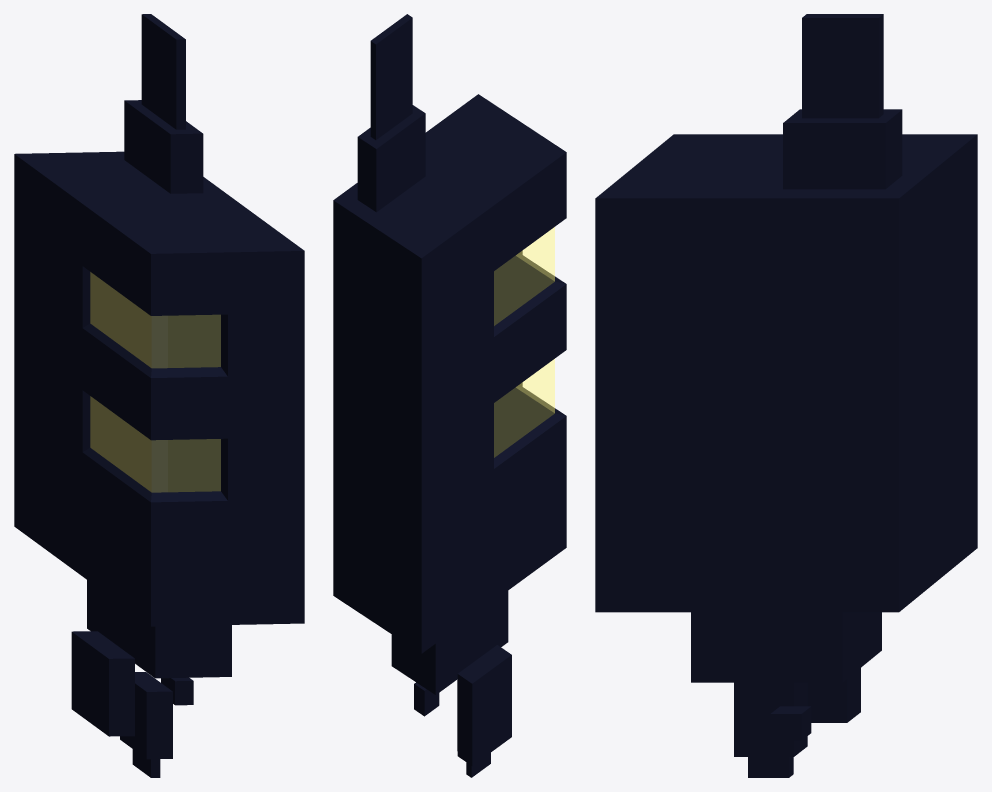
File: environments_block03.fbx
3 views of the same model, side by side, from view 1: azimuth 30°, elevation 25°; view 2: azimuth 150°, elevation 25°; view 3: azimuth 270°, elevation 25° (orthographic). The views are drawn at different scales.
Parts seen in each view (by area): view 1: Body, Window; view 2: Body, Window; view 3: Body.
Part boxes in pixels (x1=…): Body: x1=14, y1=14, x2=304, y2=777; Window: x1=90, y1=272, x2=220, y2=492; Body: x1=333, y1=14, x2=566, y2=777; Window: x1=494, y1=227, x2=554, y2=457; Body: x1=595, y1=14, x2=977, y2=777.
Size of the model in its own units: 369 by 2107 by 927.
